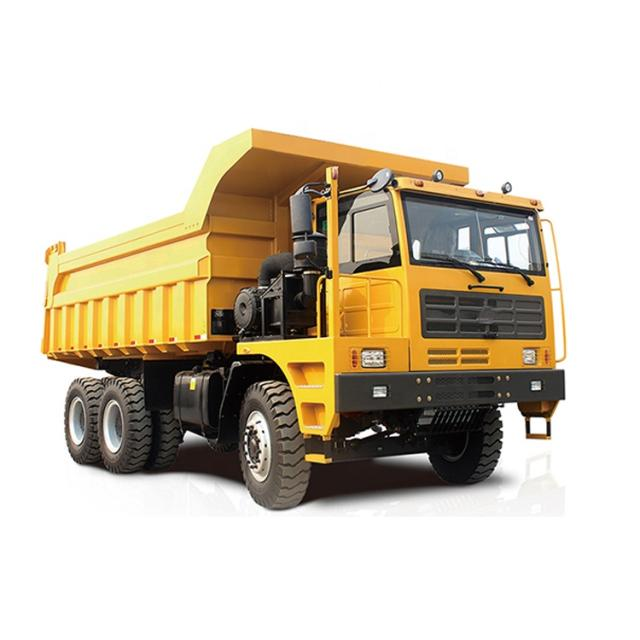dump_truck: (28, 120, 605, 523)
